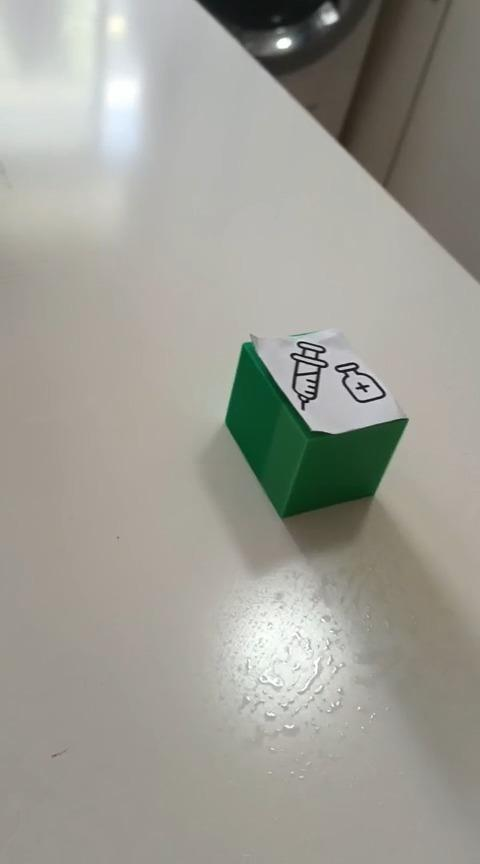antiseptic cream: (223, 325, 409, 519)
